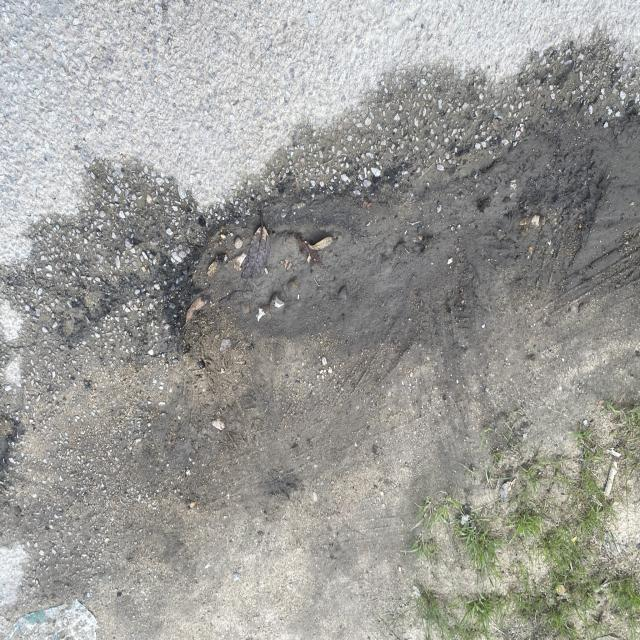Pothole: (133, 121, 446, 341)
